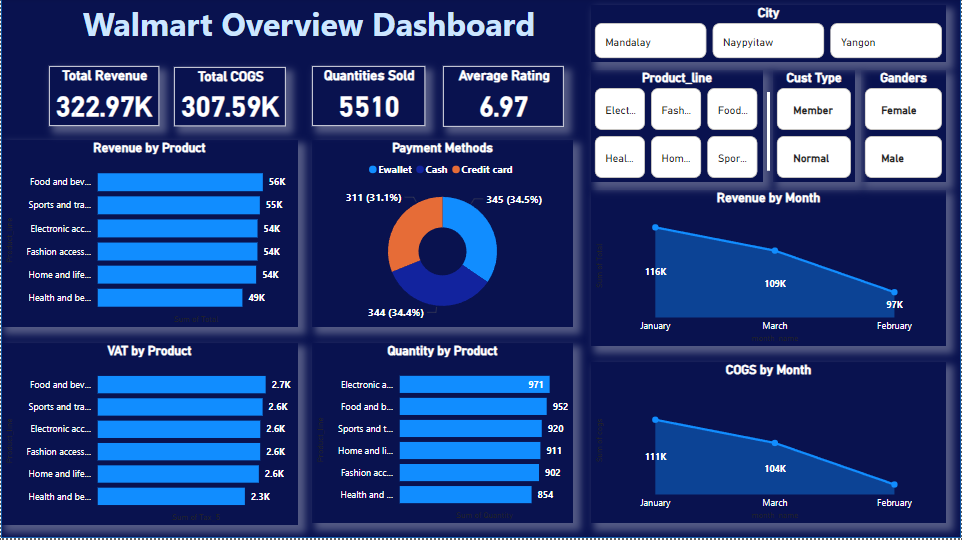

The page's visual inventory and layout, read from the dashboard file:
{"tool":"powerbi","page":{"name":"Product Sales ","canvas":[1280,720],"ordinal":0},"visuals":[{"type":"shape","box":[0,0,1280,719.8],"z":0},{"type":"textbox","box":[104,0,646.7,76],"z":1000},{"type":"card","title":"Total Revenue ","fields":{"Values":["Sum(sales.Total)"]},"box":[64,90.7,146.7,80],"z":2000},{"type":"card","title":"Total COGS","fields":{"Values":["Sum(sales.cogs)"]},"box":[230.7,92,149.3,78.7],"z":3000},{"type":"card","title":"Quantities Sold","fields":{"Values":["Sum(sales.Quantity)"]},"box":[414.7,90.7,150.7,80],"z":4000},{"type":"card","title":"Average Rating ","fields":{"Values":["Avg(sales.Rating)"]},"box":[589.3,90.7,161.3,81.3],"z":5000},{"type":"donutChart","title":"Payment Methods ","fields":{"Category":["sales.Payment"],"Y":["CountNonNull(sales.Payment)"]},"box":[414.7,189.3,348,249.3],"z":6000},{"type":"barChart","title":" Quantity by Product","fields":{"Category":["sales.Product_line"],"Y":["Sum(sales.Quantity)"]},"box":[414.7,460,348,240],"z":7000},{"type":"stackedAreaChart","title":"Revenue by Month","fields":{"Category":["sales.month_name"],"Y":["Sum(sales.Total)"]},"box":[786.7,256,473.3,208],"z":8000},{"type":"stackedAreaChart","title":"COGS by Month","fields":{"Category":["sales.month_name"],"Y":["Sum(sales.cogs)"]},"box":[786.7,485.3,473.3,214.7],"z":9000},{"type":"barChart","title":" Revenue by Product","fields":{"Category":["sales.Product_line"],"Y":["Sum(sales.Total)"]},"box":[0,189.3,396,249.3],"z":10000},{"type":"advancedSlicerVisual","fields":{"Values":["sales.City"]},"box":[786.7,9.3,473.3,76],"z":11000},{"type":"advancedSlicerVisual","fields":{"Values":["sales.Product_line"]},"box":[786.7,96,229.3,149.3],"z":12000},{"type":"barChart","title":" VAT by Product","fields":{"Category":["sales.Product_line"],"Y":["Sum(sales.Tax_5)"]},"box":[0,460,396,242.7],"z":13000},{"type":"shape","box":[998.7,125.3,49.3,105.3],"z":14000},{"type":"advancedSlicerVisual","title":"Ganders ","fields":{"Values":["sales.Gender"]},"box":[1146.7,96,113.3,149.3],"z":15000},{"type":"advancedSlicerVisual","title":"Cust Type","fields":{"Values":["sales.Customer_type"]},"box":[1029.3,96,109.3,149.3],"z":16000}]}

Visuals, with their boxes in screenshot pixels (x1, y1, x2, y2), scaled from the page's 1280x720 canvas onto the 962x542 screenshot:
shape: <bbox>0, 0, 961, 541</bbox>
textbox: <bbox>78, 0, 564, 57</bbox>
"Total Revenue " card: <bbox>48, 68, 158, 128</bbox>
"Total COGS" card: <bbox>173, 69, 286, 128</bbox>
"Quantities Sold" card: <bbox>312, 68, 425, 128</bbox>
"Average Rating " card: <bbox>443, 68, 564, 129</bbox>
"Payment Methods " donutChart: <bbox>312, 143, 573, 330</bbox>
" Quantity by Product" barChart: <bbox>312, 346, 573, 527</bbox>
"Revenue by Month" stackedAreaChart: <bbox>591, 193, 947, 349</bbox>
"COGS by Month" stackedAreaChart: <bbox>591, 365, 947, 527</bbox>
" Revenue by Product" barChart: <bbox>0, 143, 298, 330</bbox>
advancedSlicerVisual - sales.City: <bbox>591, 7, 947, 64</bbox>
advancedSlicerVisual - sales.Product_line: <bbox>591, 72, 764, 185</bbox>
" VAT by Product" barChart: <bbox>0, 346, 298, 529</bbox>
shape: <bbox>751, 94, 788, 174</bbox>
"Ganders " advancedSlicerVisual: <bbox>862, 72, 947, 185</bbox>
"Cust Type" advancedSlicerVisual: <bbox>774, 72, 856, 185</bbox>
